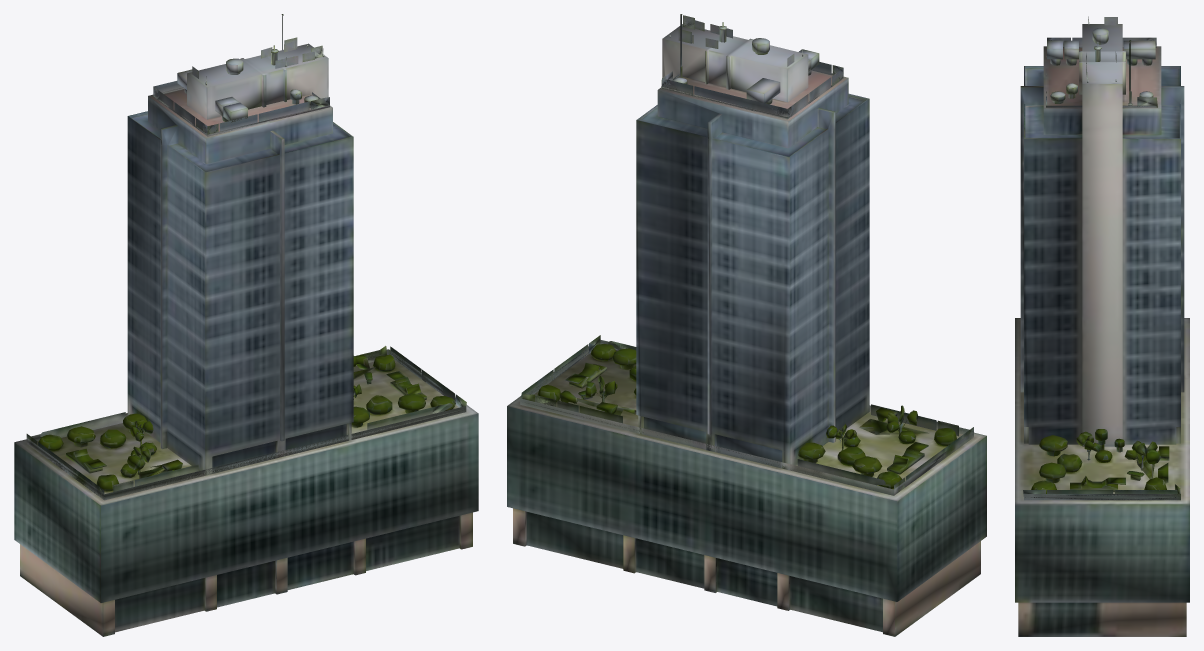
The model's file is city-podium-tower.glb.
The picture shows the model from 3 angles, left to right: view 1: azimuth 30°, elevation 25°; view 2: azimuth 150°, elevation 25°; view 3: azimuth 270°, elevation 25°; orthographic projection. The views are drawn at different scales.
Parts seen in each view (by area): view 1: Podium tower; view 2: Podium tower; view 3: Podium tower.
Part boxes in pixels (box(x1,y1,x2,y2)): Podium tower: box(14, 14, 478, 636); Podium tower: box(507, 14, 986, 636); Podium tower: box(1015, 16, 1189, 636).
Bounding box in the file's own units: 0.752 × 0.998 × 0.2988.
1 material, 1 textured.
